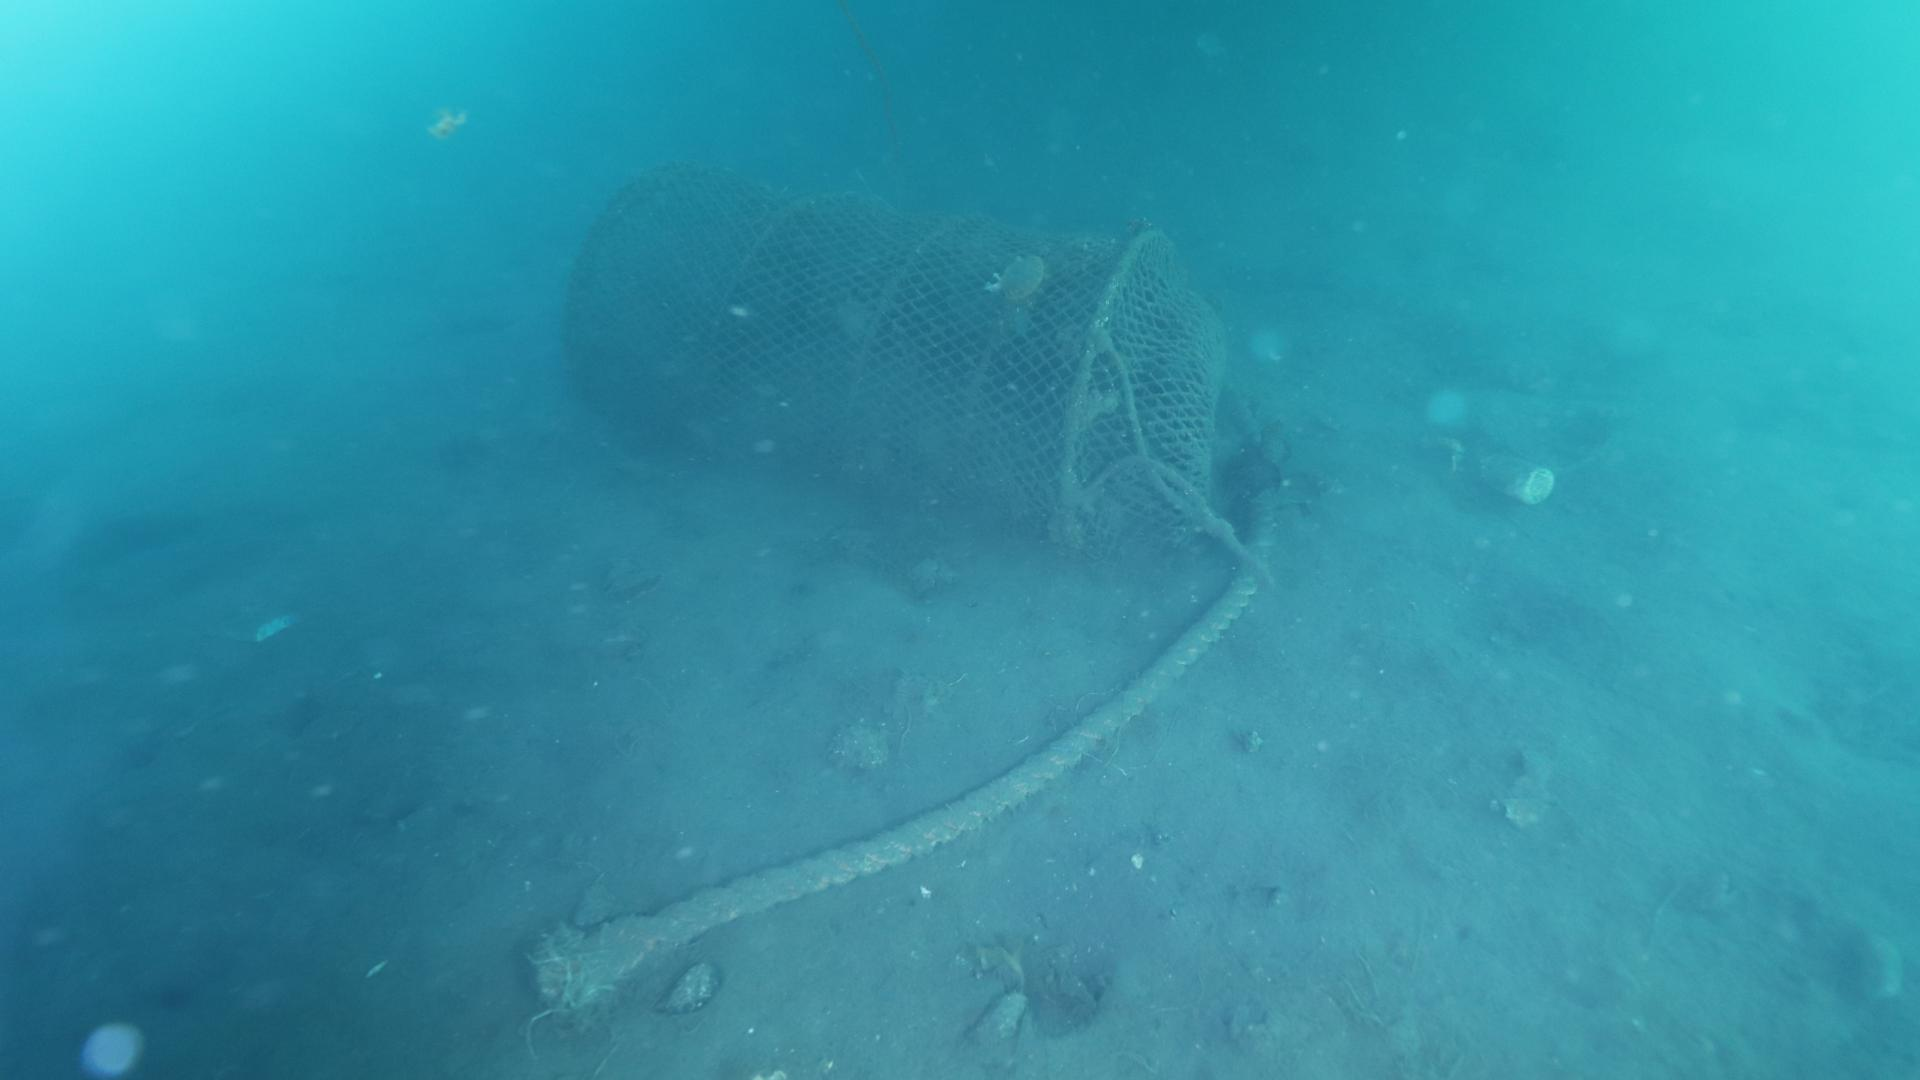bundle of ropes: (647, 320, 1290, 953)
spring fish trap: (564, 162, 1228, 563)
